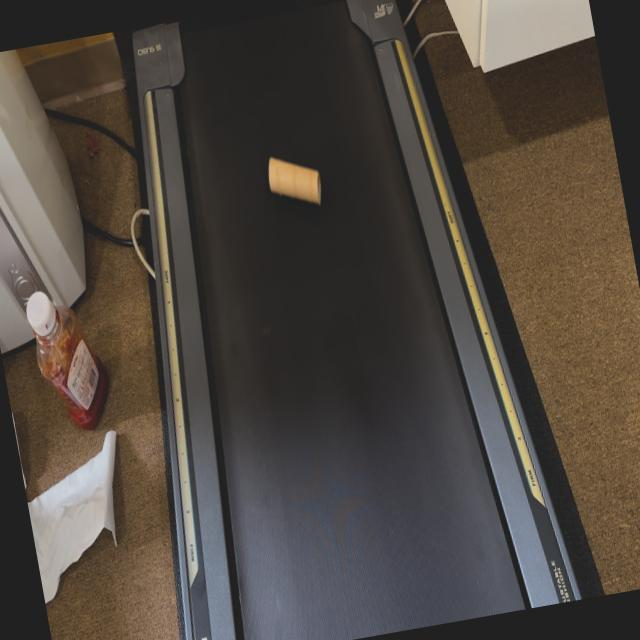Recycle: (262, 146, 331, 220)
